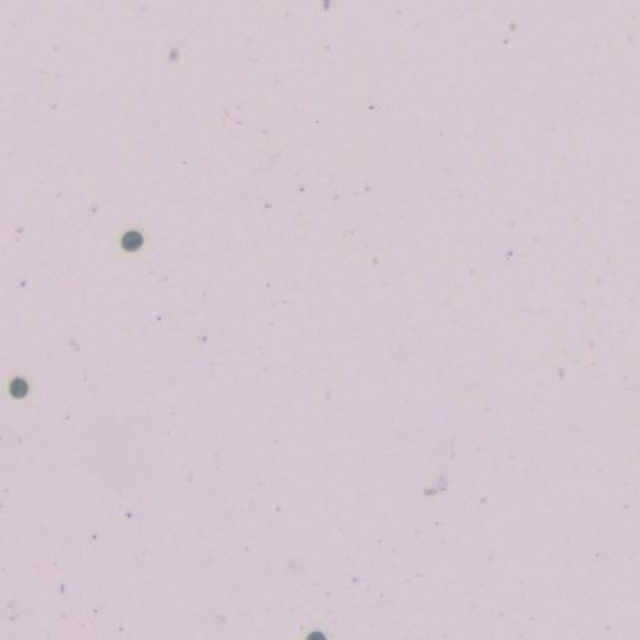non_viable: (121, 230, 143, 251), (9, 378, 28, 397), (306, 631, 325, 639)
